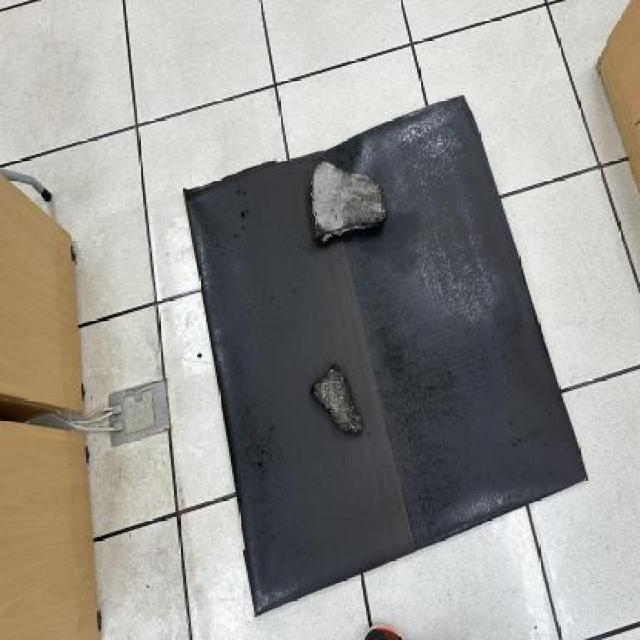Road Debris: (316, 360, 362, 438), (336, 172, 390, 232)
